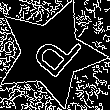P_SW: (19, 23, 82, 85)
